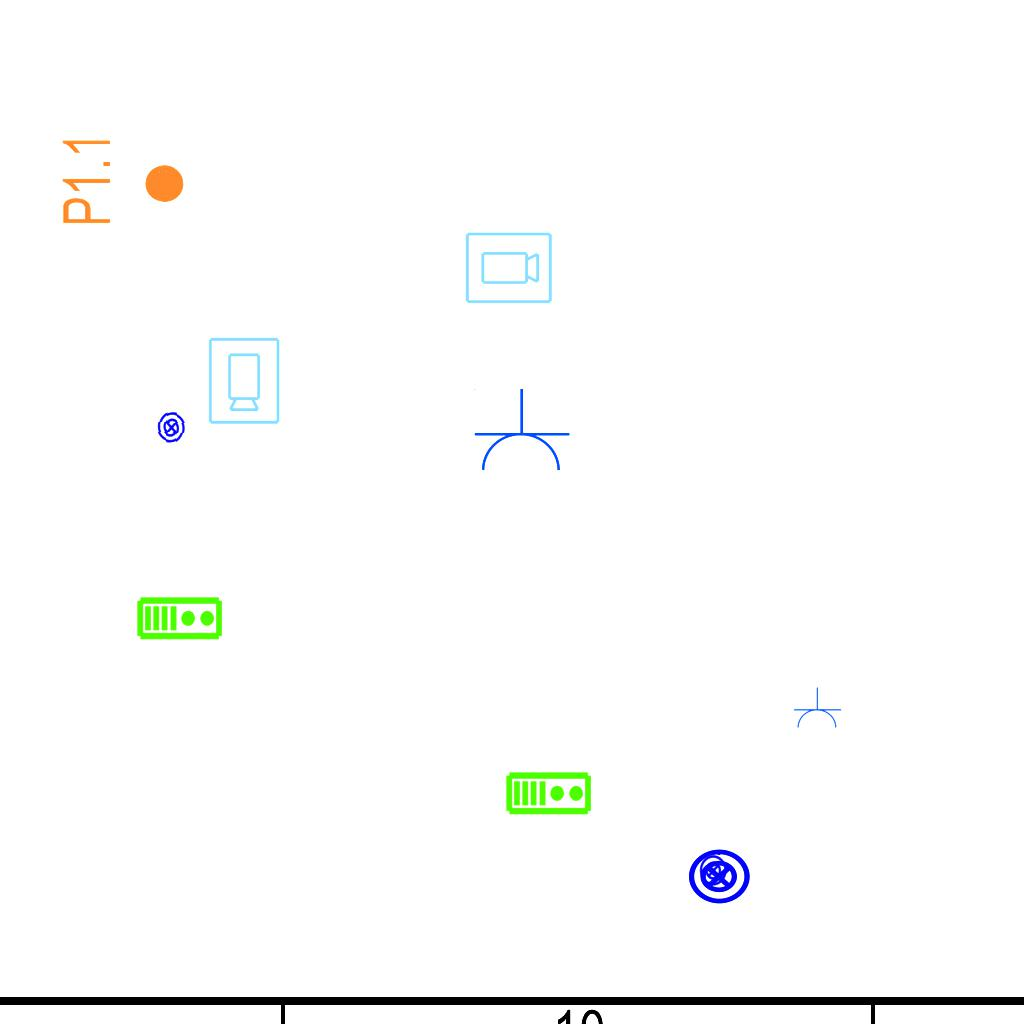Downlight_LED_Einbauleuchten_Flur: (59, 134, 187, 227)
Gegensprechanlage_mit_Video: (136, 594, 224, 641), (505, 769, 593, 816)
KFO_Kamera_mit_Festobjektiv: (463, 230, 554, 307), (205, 335, 282, 426)
Schukosteckdose_einfach: (471, 388, 571, 475), (792, 687, 842, 730)
Taster_beleuchtet: (686, 844, 752, 910), (153, 409, 190, 446), (697, 854, 730, 887)
